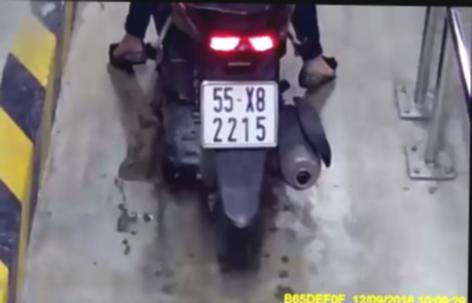License_Plate: (198, 74, 287, 154)
